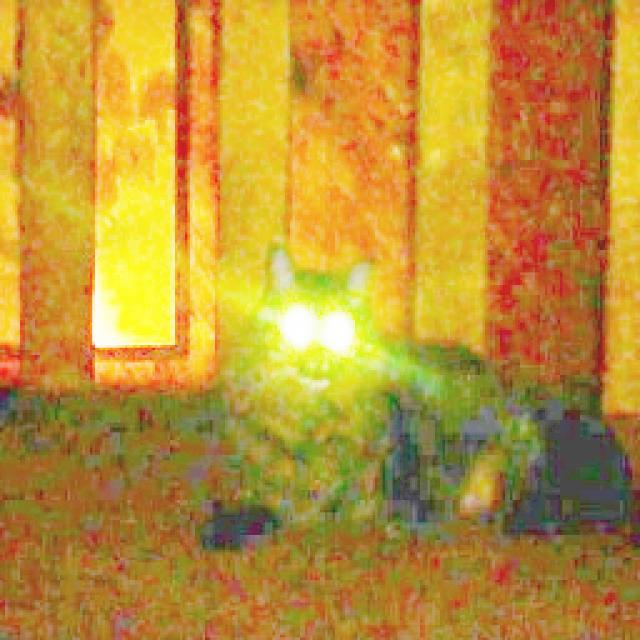cat: (200, 219, 554, 564)
